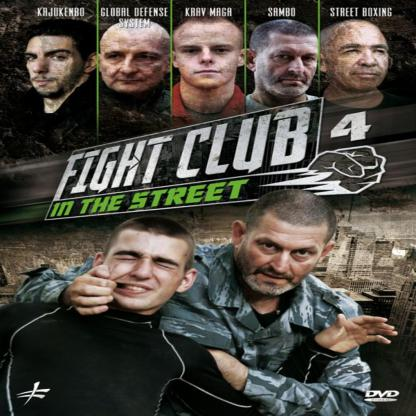face: (245, 213, 328, 296), (109, 226, 185, 311), (325, 26, 391, 92), (256, 32, 320, 97), (101, 31, 167, 94), (177, 26, 239, 90), (24, 38, 77, 99)
